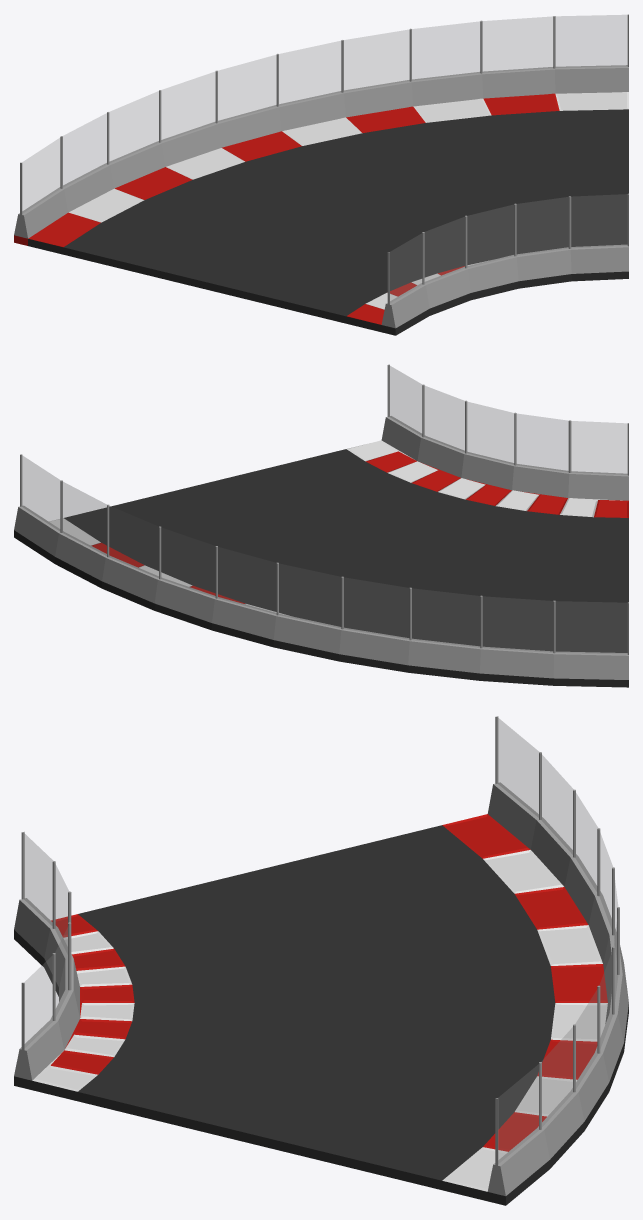
Rendered from track_curve_right_borders_low.glb.
The picture shows the model from 3 angles, top to bottom: view 1: azimuth 30°, elevation 25°; view 2: azimuth 150°, elevation 25°; view 3: azimuth 270°, elevation 25°; orthographic projection. The views are drawn at different scales.
Parts seen in each view (by area): view 1: CurveRight.002; view 2: CurveRight.002; view 3: CurveRight.002.
Boxes of the visible parts, x1=… form: CurveRight.002: x1=14, y1=14, x2=628, y2=335; CurveRight.002: x1=14, y1=364, x2=628, y2=687; CurveRight.002: x1=14, y1=716, x2=628, y2=1205.
Bounding box in the file's own units: 17.4 × 2.2 × 11.69.
